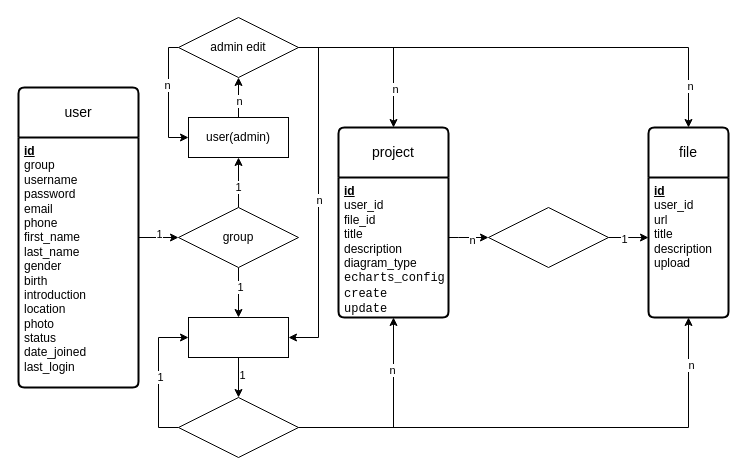
Image size: 746x475. Some labels were removed from this diagram. The shapes that lost their labels are listed below. From the top down, each one's centre as x and y in pixels, then its label:
At pixel 548 237: "use".
At pixel 238 337: "user(customer)".
At pixel 238 427: "cutomer edit".
